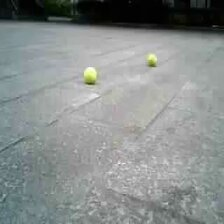tennis: (83, 66, 96, 82), (148, 53, 159, 67)
